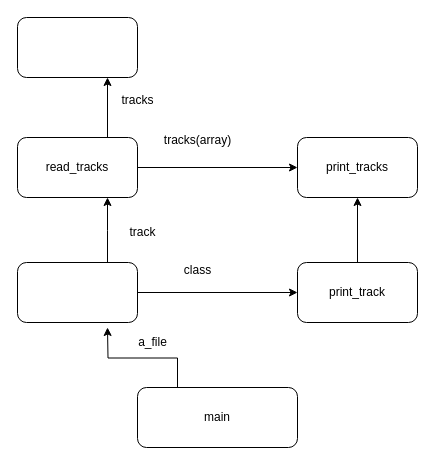
The diagram is 435 pixels wide and 465 high, and some of its shapes have lost their labels. The box of each missing label's shape, as (x1, y1, x2, y2) in pixels:
read_album: (16, 16, 138, 78)
read_track: (16, 262, 138, 322)
